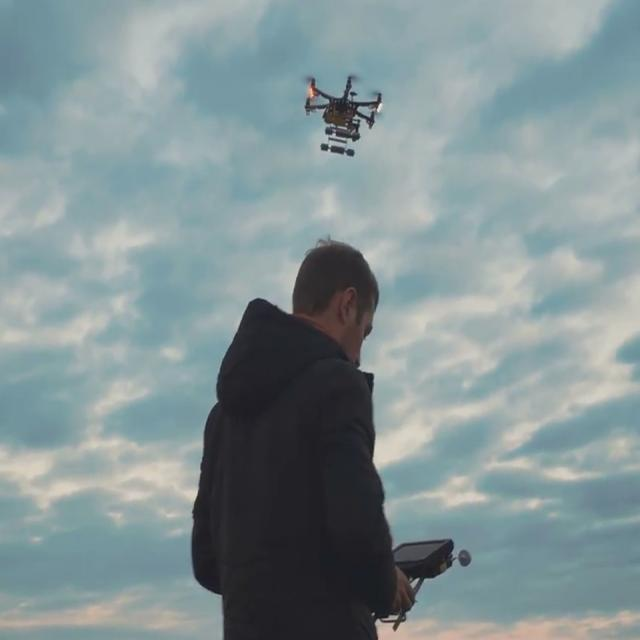drone: (293, 66, 390, 157)
